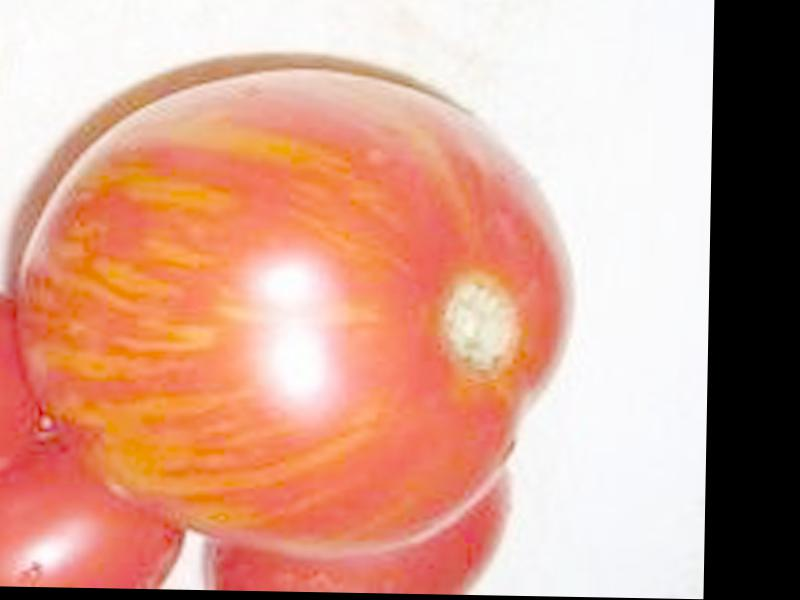Tomato: (8, 63, 584, 564)
